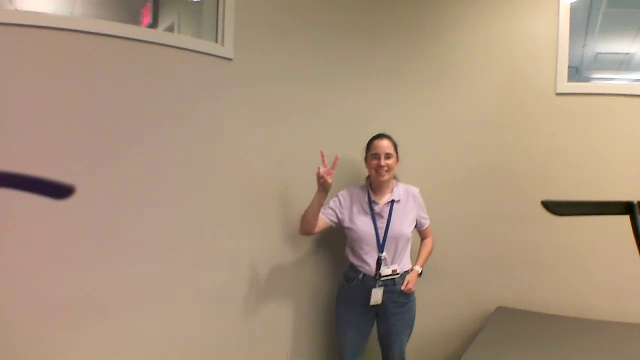peace: (316, 148, 342, 194)
